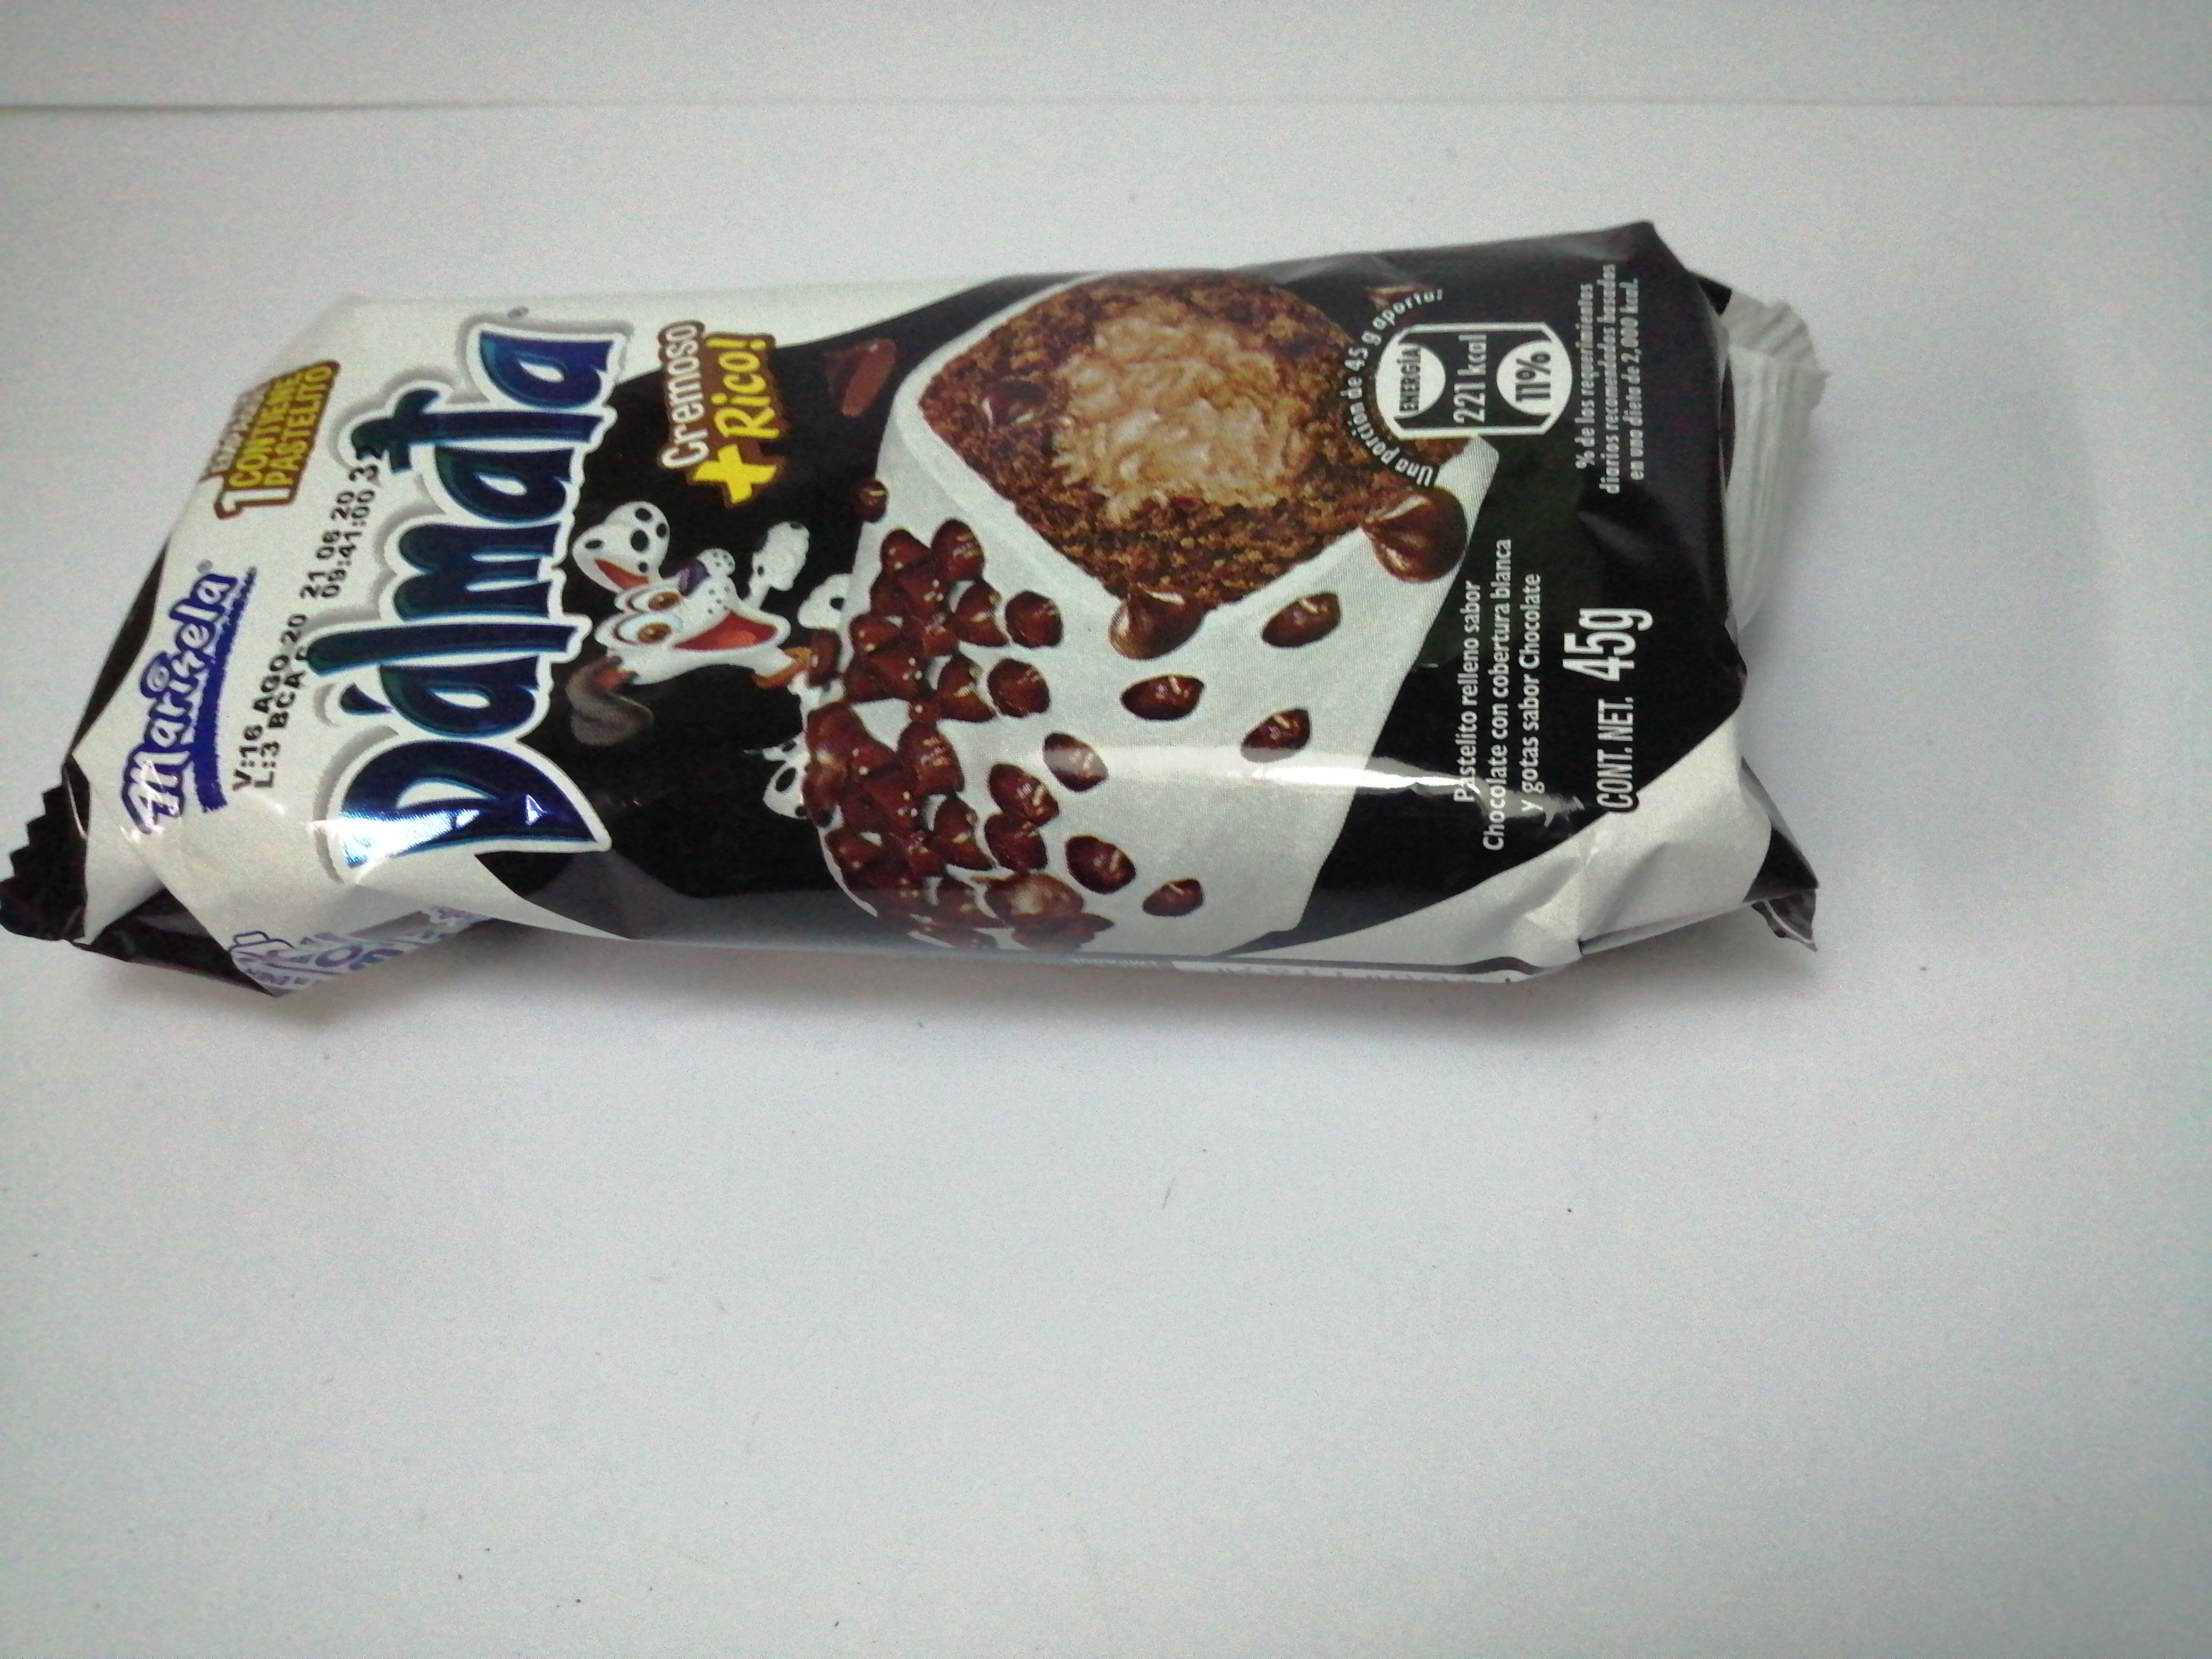dalmata: (23, 223, 1851, 1011)
